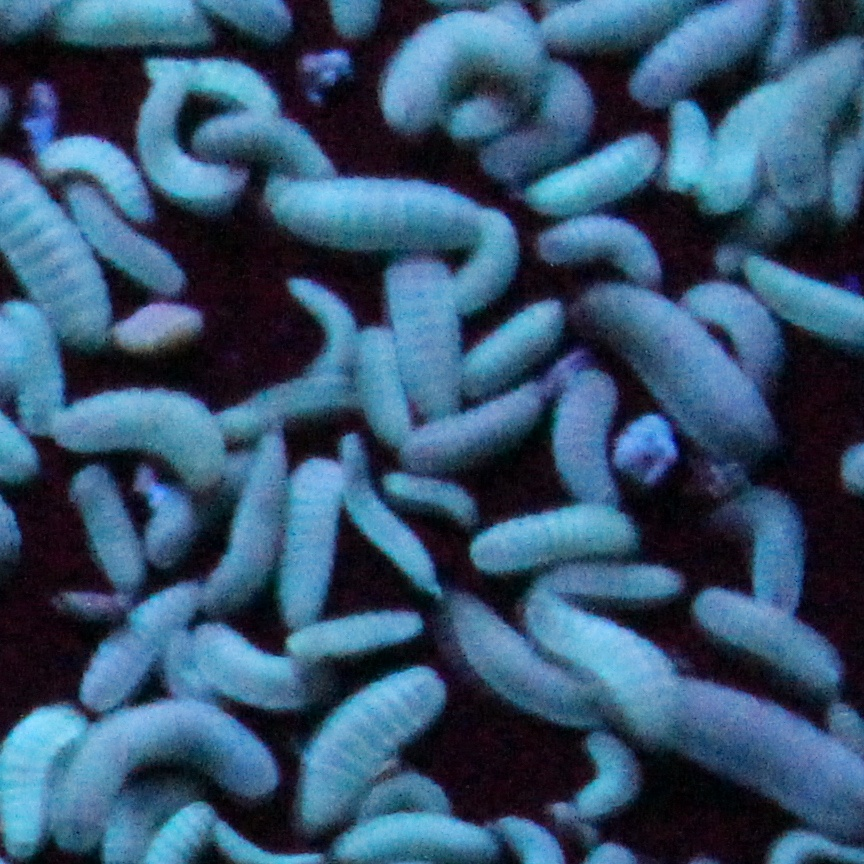larve: (573, 276, 795, 471), (286, 666, 442, 831), (435, 586, 601, 724), (264, 162, 501, 256), (521, 586, 686, 720), (324, 429, 448, 593), (368, 16, 541, 127), (46, 382, 226, 484), (59, 695, 184, 840), (115, 76, 250, 209), (55, 180, 195, 300), (692, 586, 850, 691), (379, 244, 472, 416), (697, 473, 810, 609), (479, 55, 590, 189), (82, 576, 199, 702), (204, 429, 282, 611), (681, 276, 792, 393), (406, 389, 552, 473), (459, 504, 646, 569), (141, 700, 270, 791), (524, 131, 662, 215), (193, 624, 319, 709), (35, 122, 148, 215), (455, 296, 568, 387), (193, 111, 337, 182), (693, 86, 777, 207), (142, 44, 284, 113), (557, 726, 650, 831), (553, 369, 624, 506), (279, 458, 339, 615), (284, 267, 362, 384), (66, 466, 142, 586), (273, 609, 432, 664), (533, 220, 664, 286), (352, 324, 422, 447), (208, 375, 355, 431), (448, 200, 517, 307), (381, 464, 484, 524), (532, 562, 666, 602), (664, 104, 704, 182)
